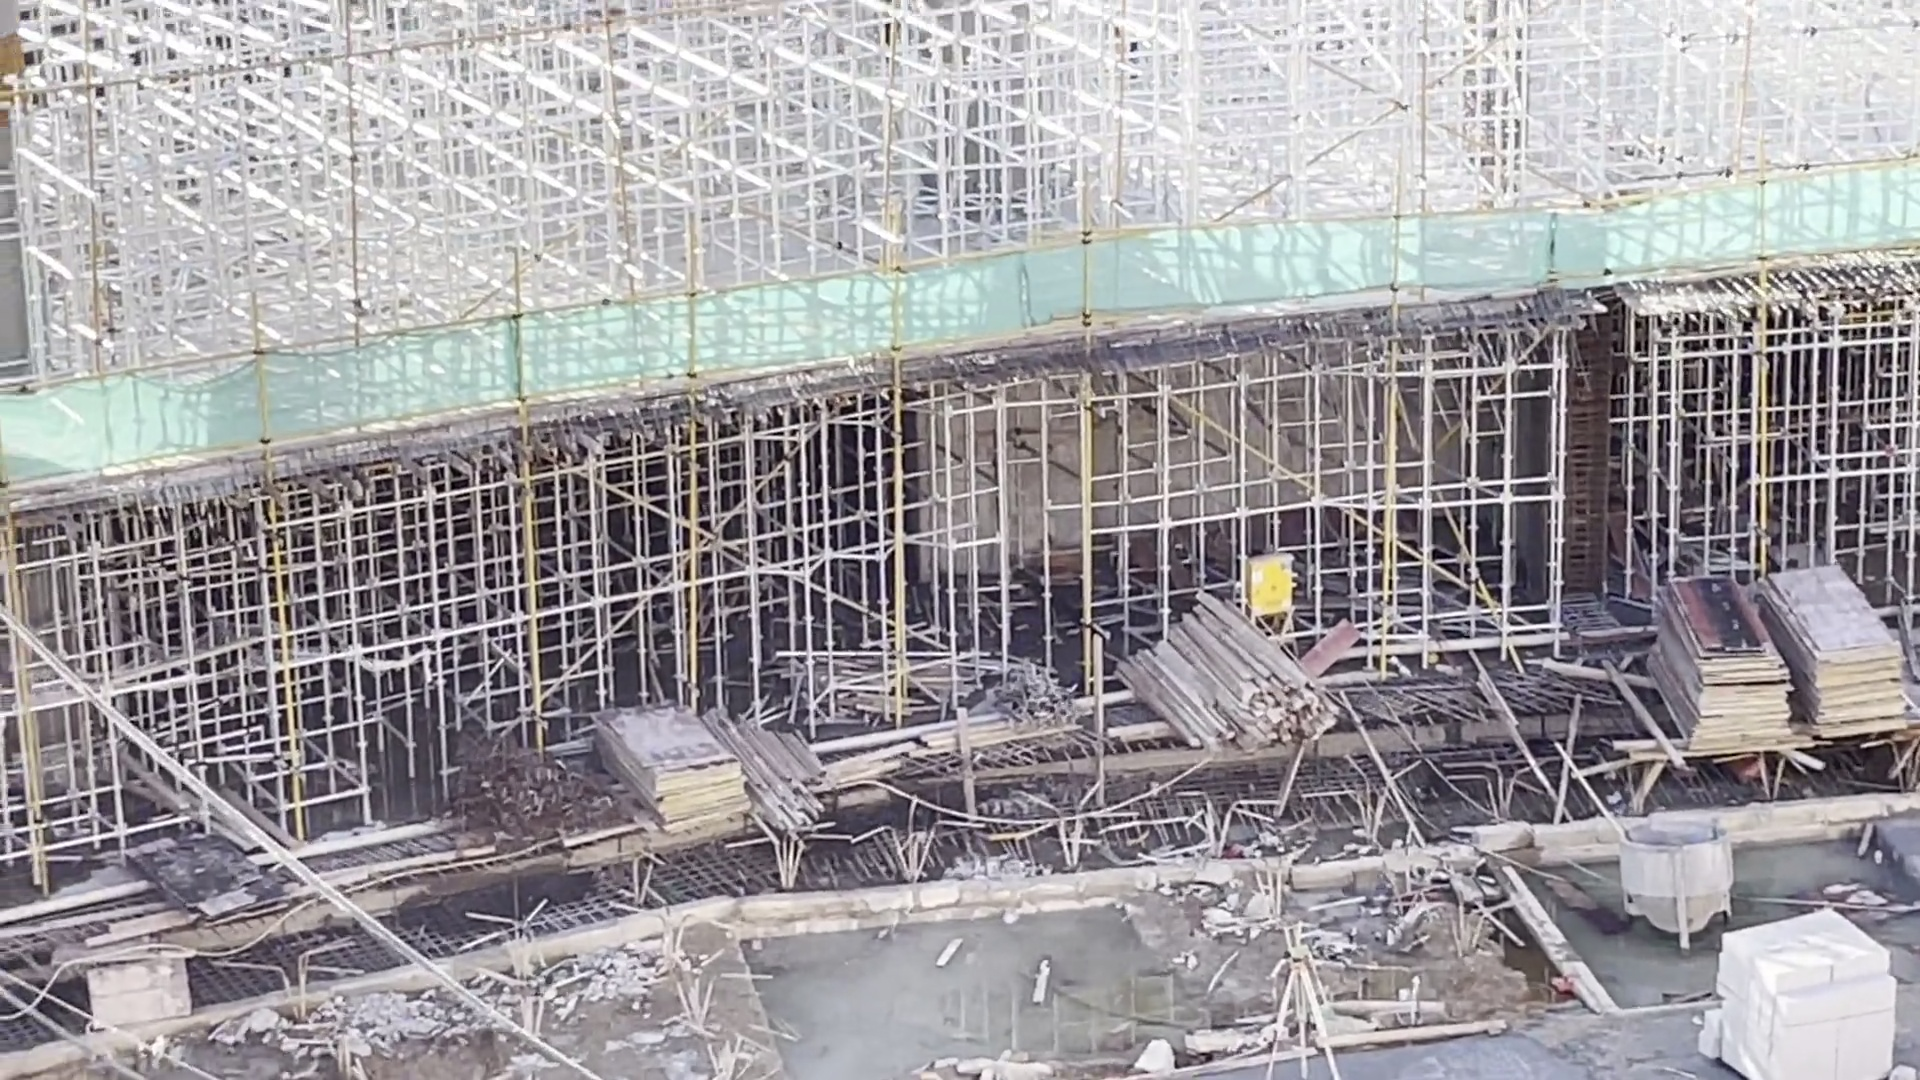board: (1636, 574, 1803, 758), (1762, 564, 1915, 742), (591, 695, 760, 837)
brick: (1698, 911, 1898, 1076)
ebox: (1245, 549, 1298, 638)
hopper: (1621, 816, 1739, 949)
wood: (1095, 583, 1345, 753), (745, 716, 833, 835)
